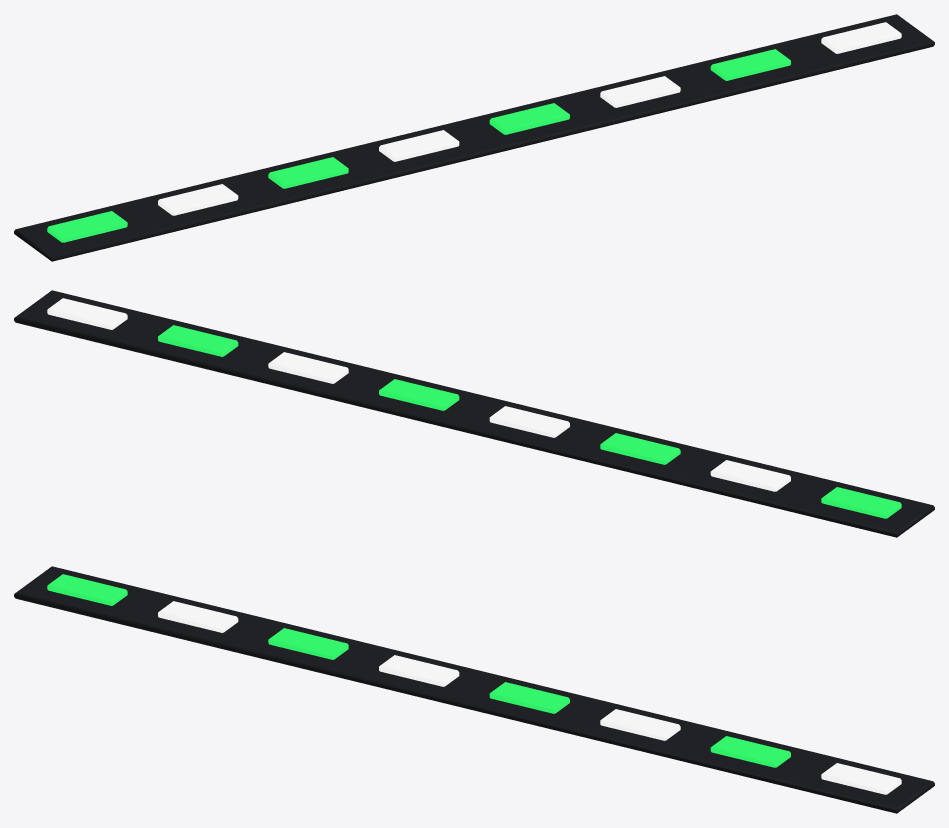
Rendered from striplight_floor_dash_guide.glb.
The picture shows the model from 3 angles, top to bottom: view 1: azimuth 30°, elevation 25°; view 2: azimuth 150°, elevation 25°; view 3: azimuth 330°, elevation 25°; orthographic projection.
Parts seen in each view (by area): view 1: striplight_floor_dash_guide; view 2: striplight_floor_dash_guide; view 3: striplight_floor_dash_guide.
Boxes of the visible parts, bbox=[...] form: striplight_floor_dash_guide: bbox=[14, 14, 934, 261]; striplight_floor_dash_guide: bbox=[14, 290, 934, 537]; striplight_floor_dash_guide: bbox=[14, 566, 934, 813].
Size of the model in its own units: 1.6 by 0.02 by 0.12.
